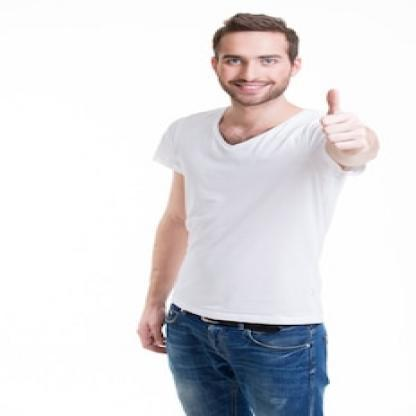thumb_up: (310, 84, 374, 160)
